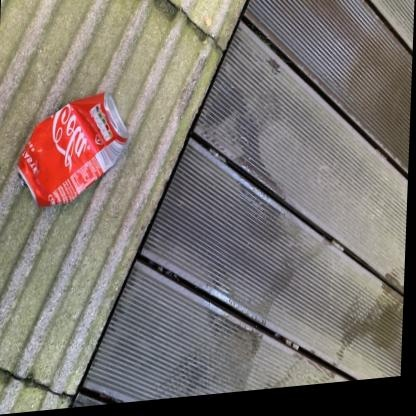trash: (18, 93, 127, 206)
